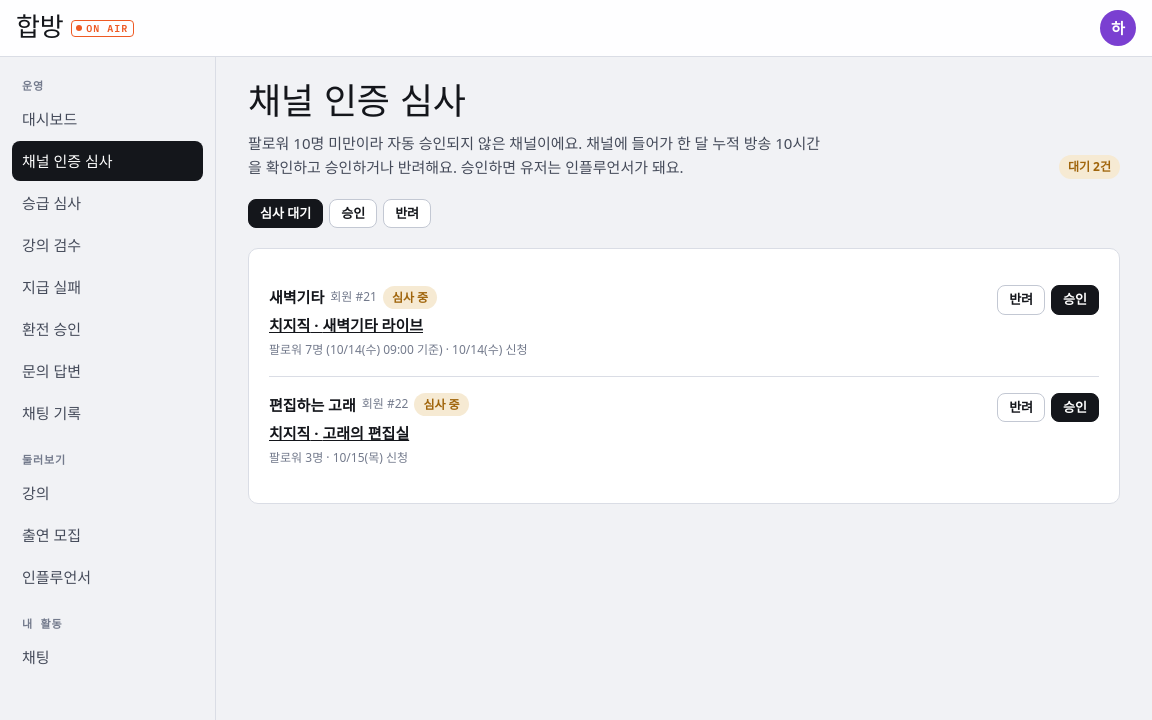
Test case: 관리자 채널 인증 심사 › 이미 처리된 채널이면 안내하고 목록을 다시 불러온다
The image size is (1152, 720).
Click the button "승인" in the row of "21": (1075, 300) [1051, 285, 1099, 315]
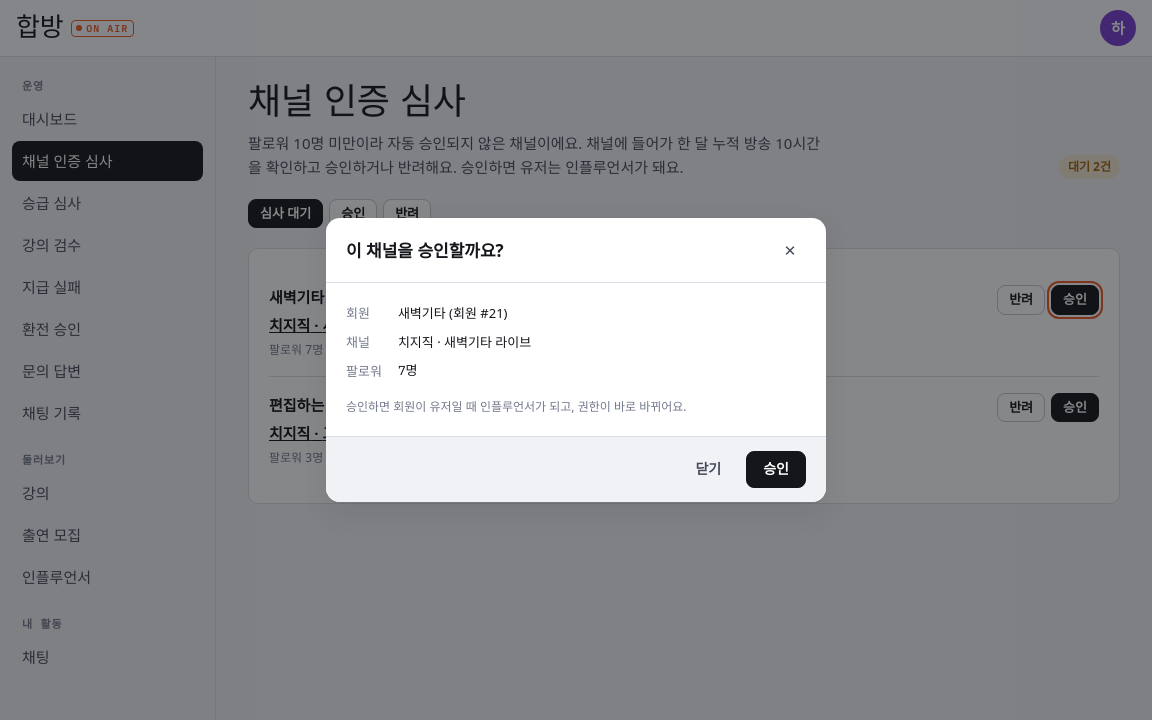
Click the button "승인": (776, 470) [746, 451, 806, 488]
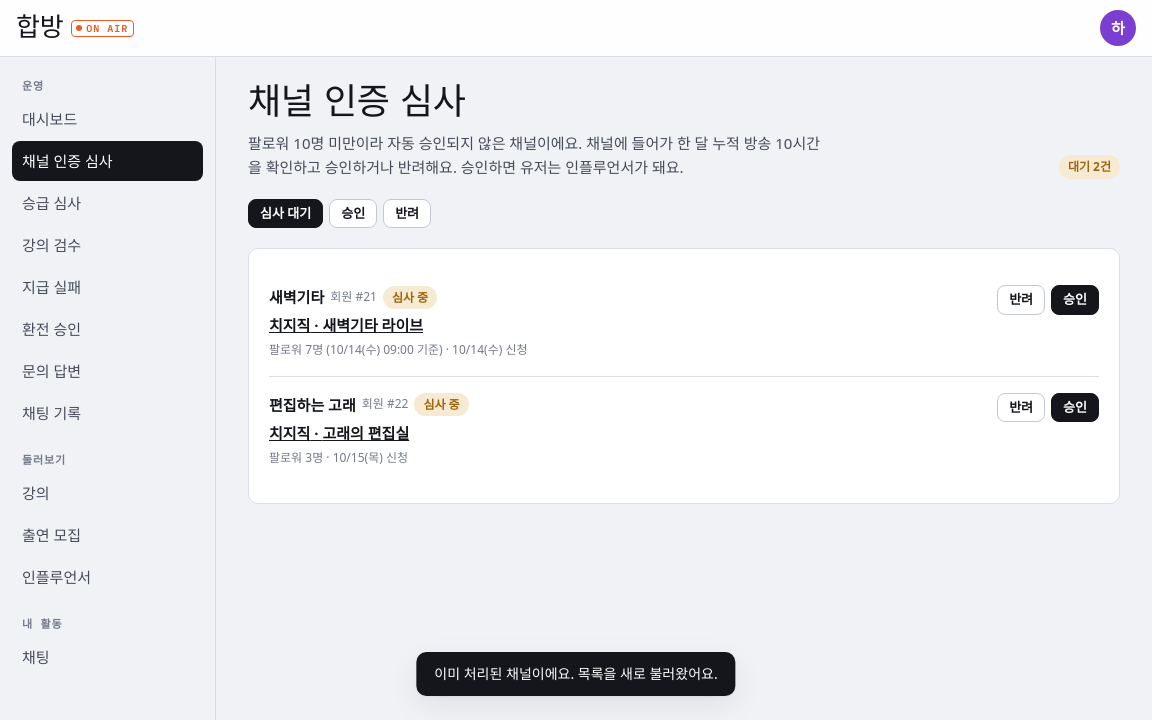
Now the text "이미 처리된 채널이에요. 목록을 새로 불러왔어요." is shown, box [416, 652, 736, 696]
Now the dialog is gone
